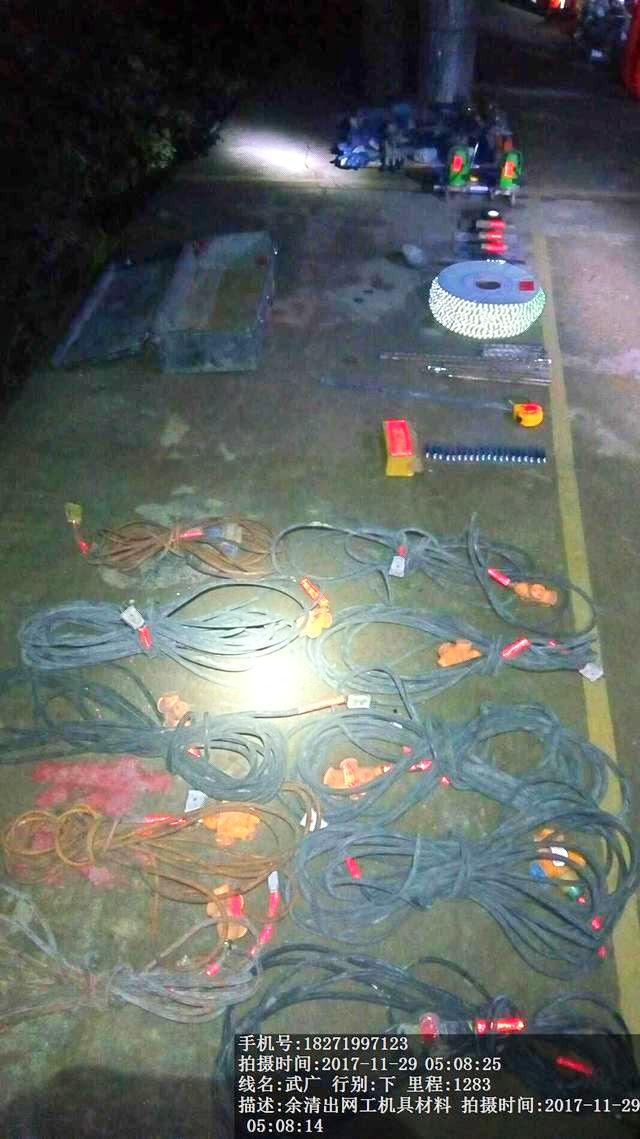DX: (297, 814, 635, 963), (302, 579, 606, 702), (291, 693, 603, 808), (12, 585, 312, 685)
